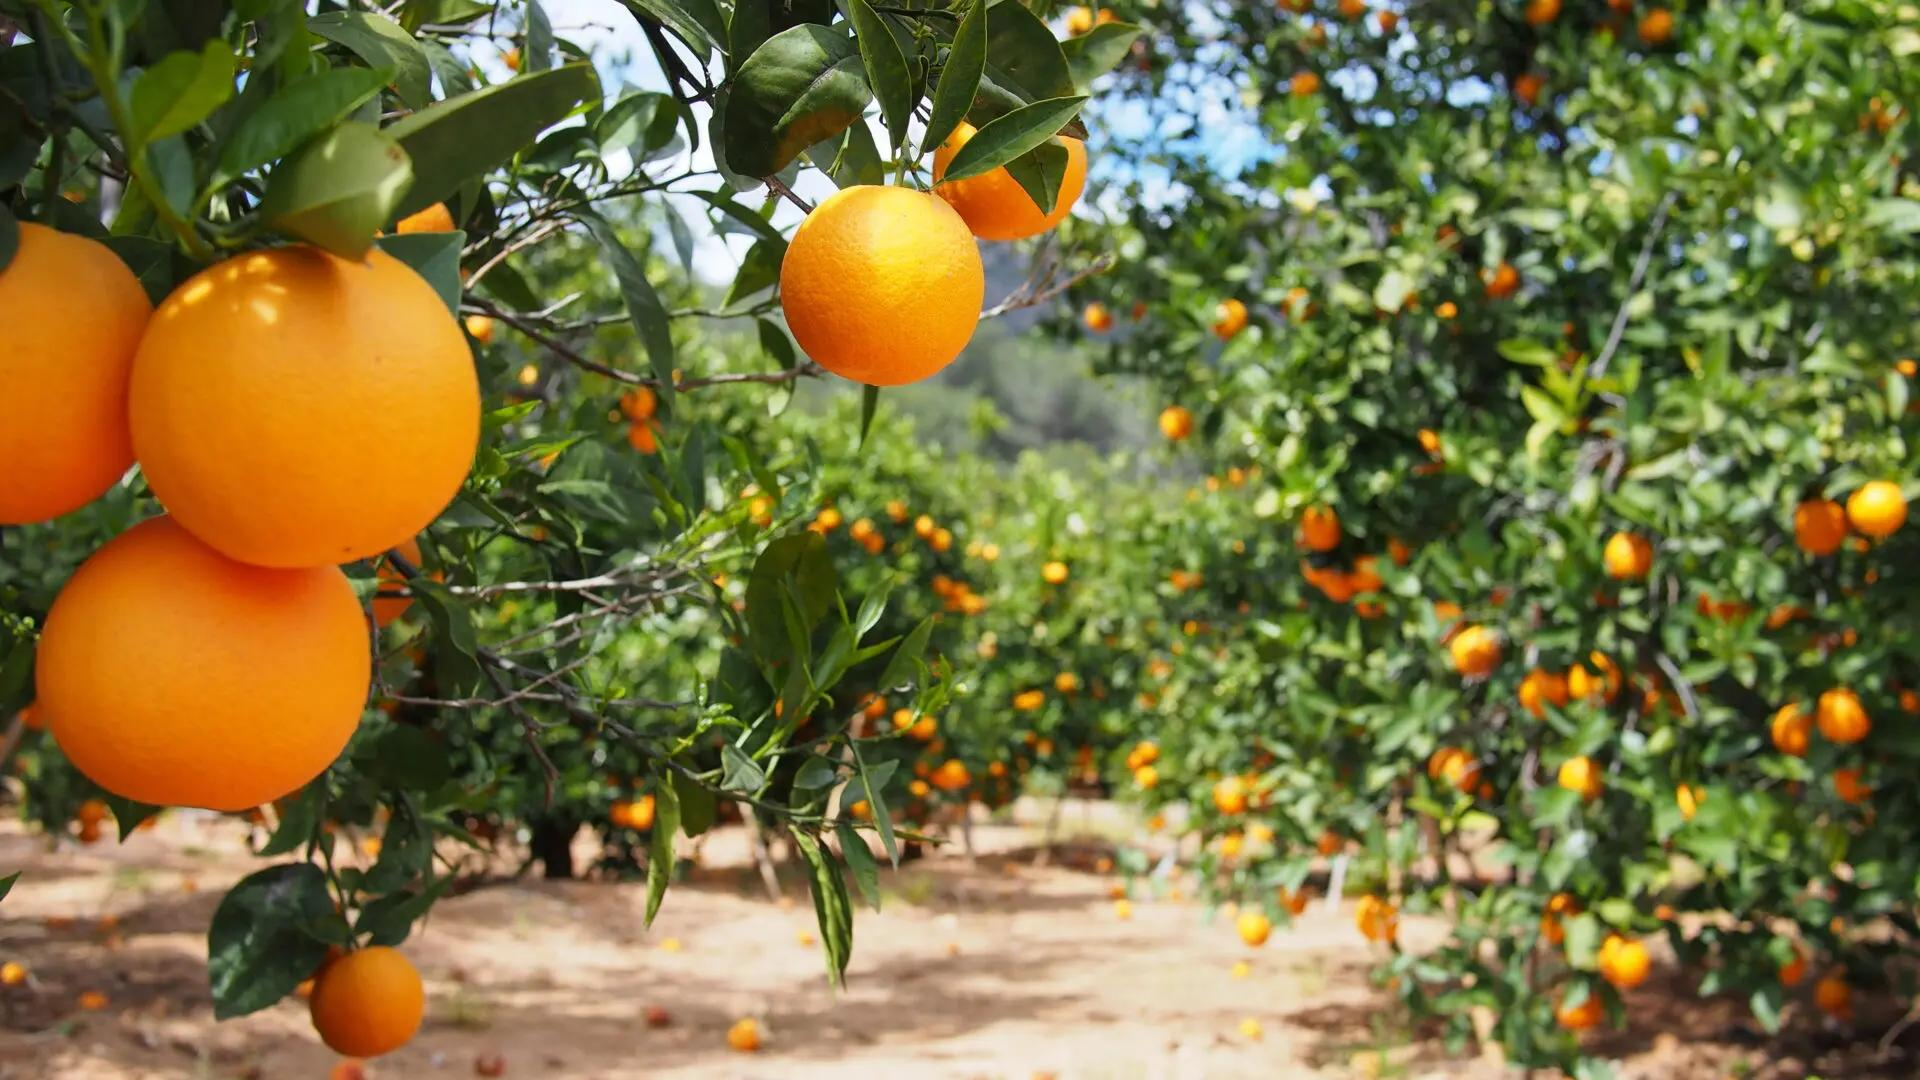orange: (112, 228, 504, 588), (26, 509, 397, 829), (758, 169, 1007, 405), (302, 928, 456, 1068)
